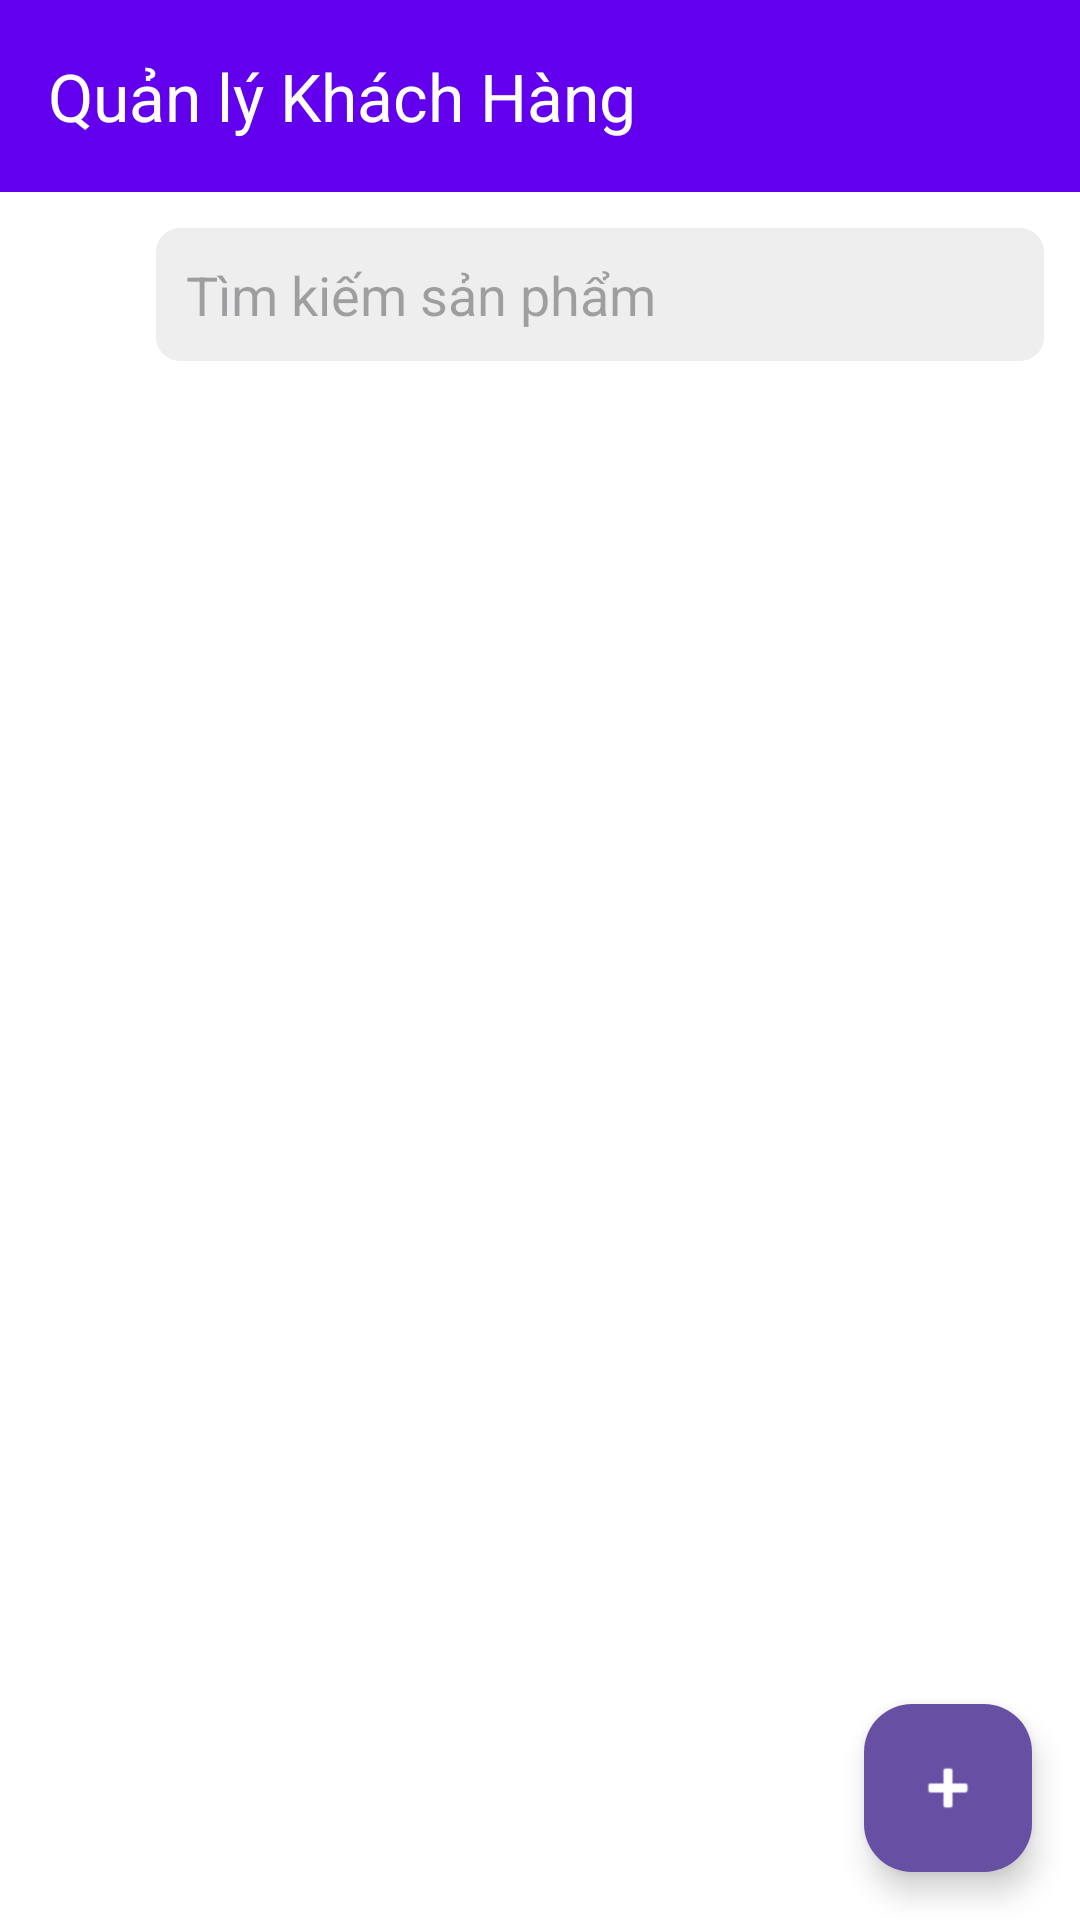

Point at icon controls on the screen. Image size 1080x1920, points as point (x, y).
Thêm khách hàng: point (948, 1788)
